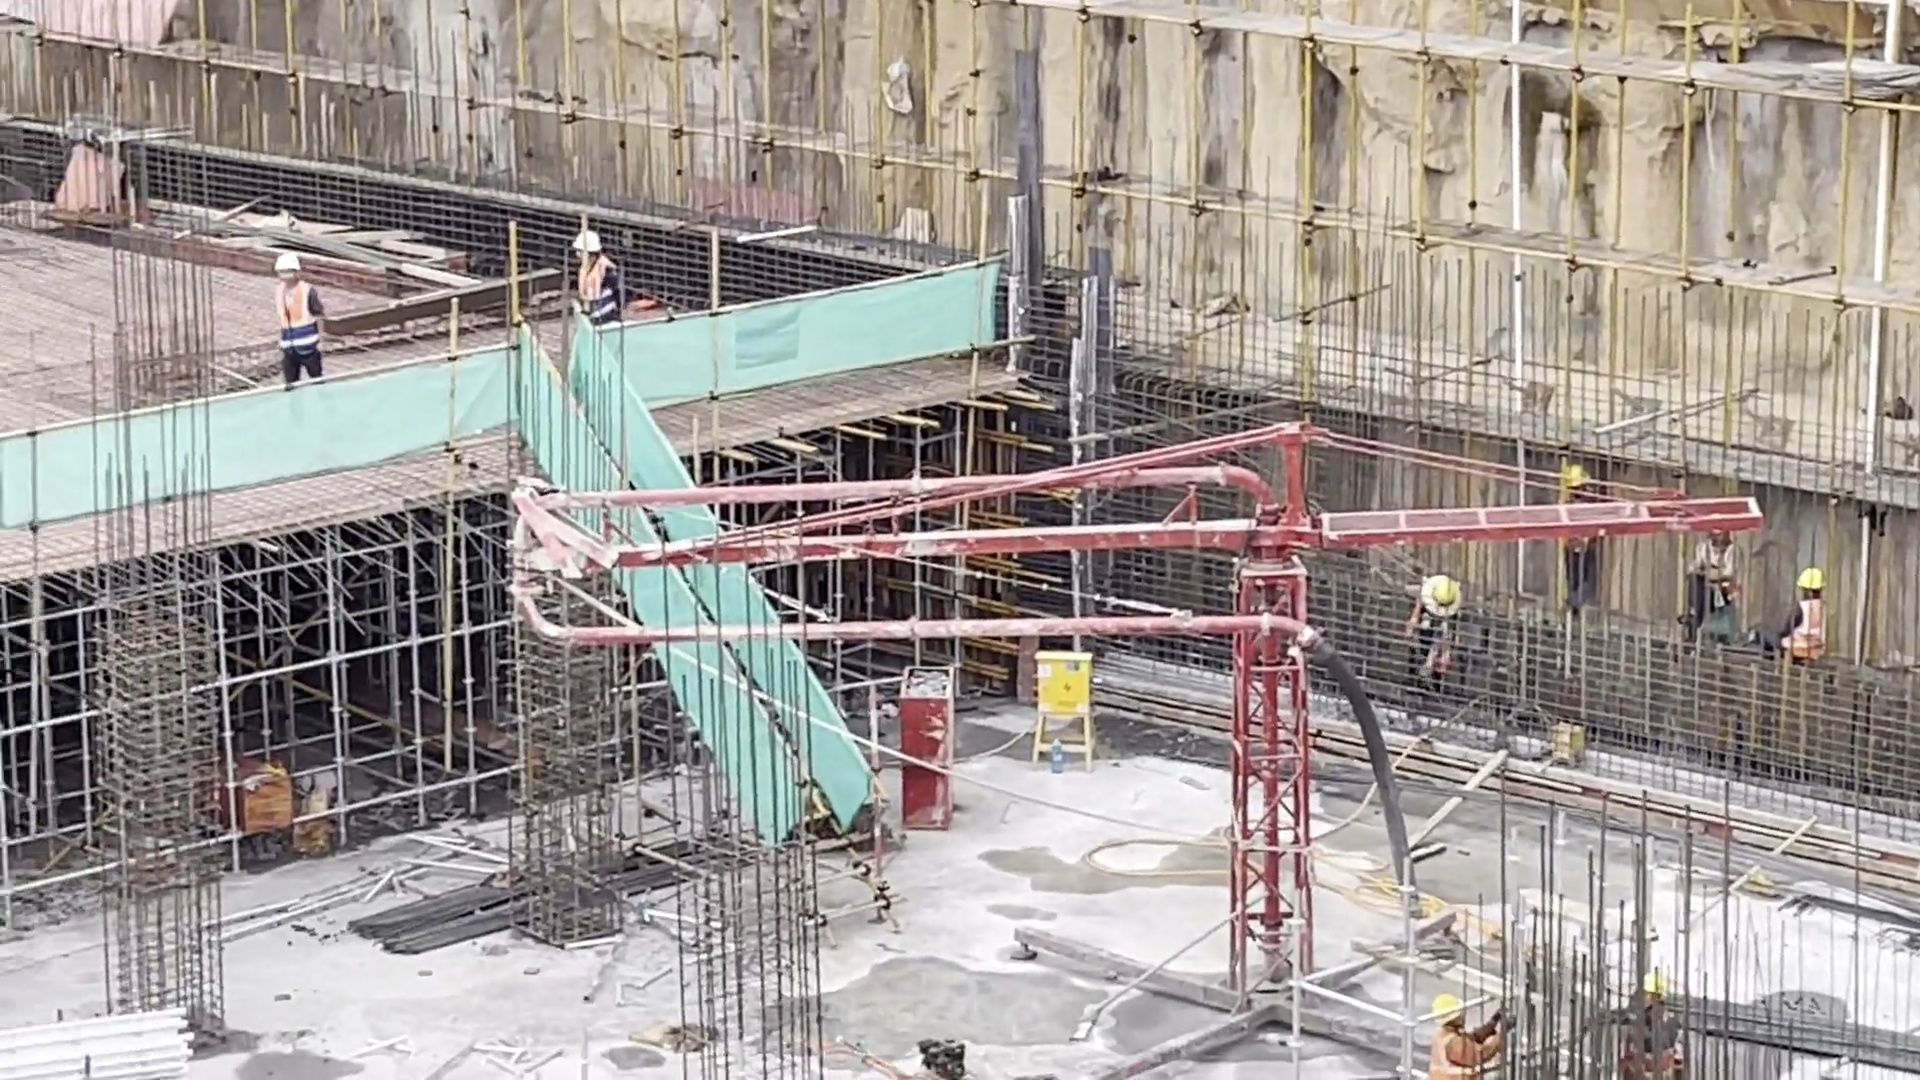helmet: (270, 246, 317, 278), (1431, 991, 1473, 1026), (1427, 574, 1465, 609), (1795, 564, 1833, 594), (576, 230, 614, 254), (1564, 465, 1592, 497)
person: (265, 244, 333, 387), (1409, 565, 1469, 719), (1422, 984, 1512, 1080), (563, 229, 643, 335), (1618, 975, 1691, 1080), (1679, 525, 1743, 642), (1775, 561, 1835, 668)
vest: (270, 286, 333, 349), (1788, 599, 1835, 665), (581, 260, 624, 327), (1433, 1037, 1491, 1080)
